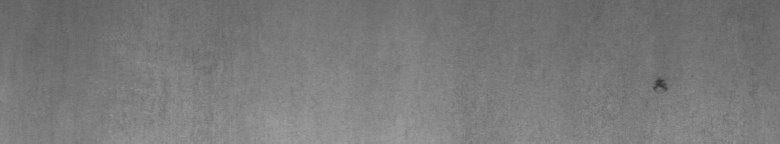fi: (640, 72, 672, 96)
